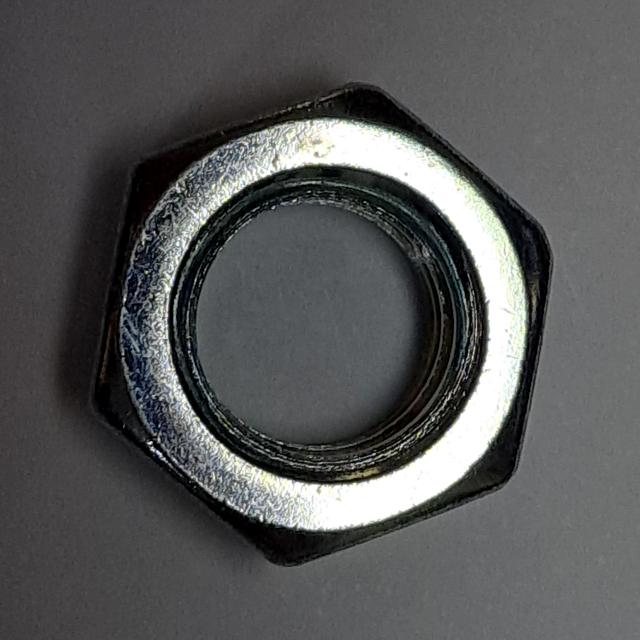Excellent: (77, 72, 567, 584)
